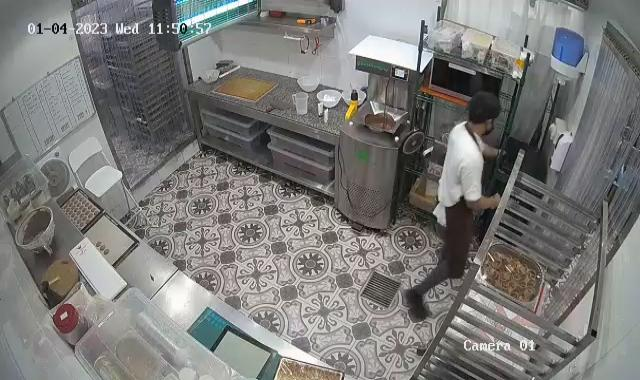no_hairnet: (467, 94, 502, 127)
